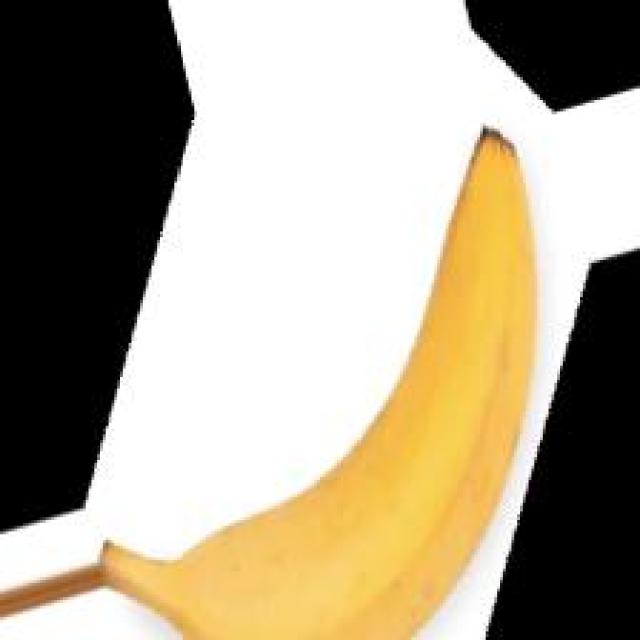banana: (80, 91, 569, 640)
